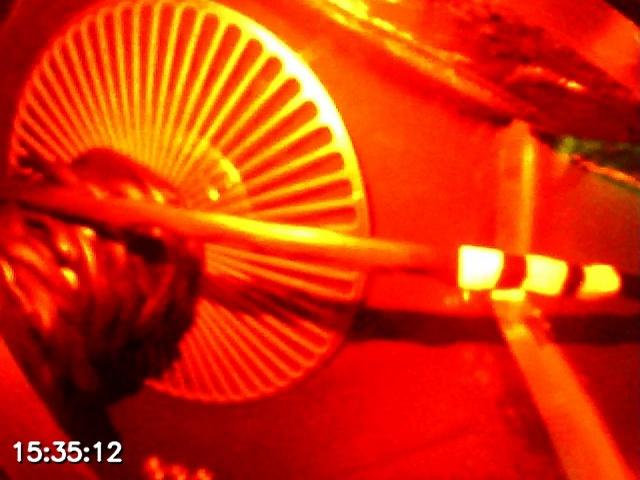white-dots: (456, 243, 622, 303)
